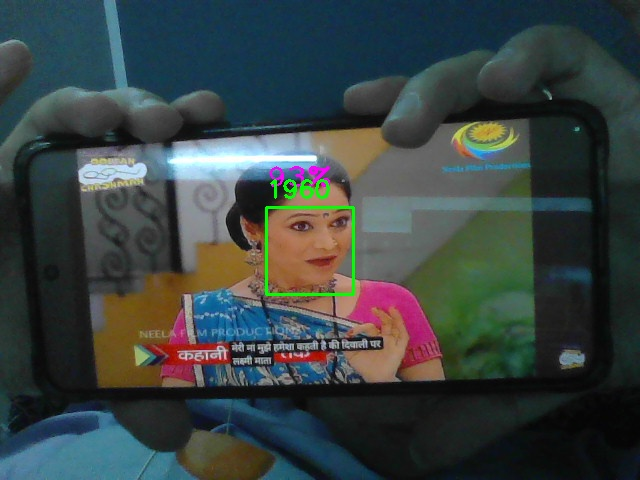fake: (266, 207, 354, 295)
